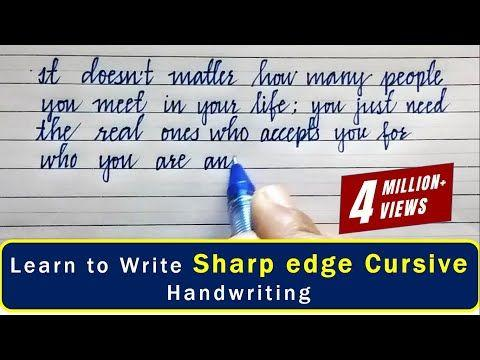text: (28, 54, 446, 98), (39, 85, 453, 128), (34, 114, 415, 154), (8, 251, 468, 279), (39, 142, 235, 185), (166, 281, 313, 306), (382, 172, 448, 197), (346, 176, 378, 227), (378, 195, 429, 224)
